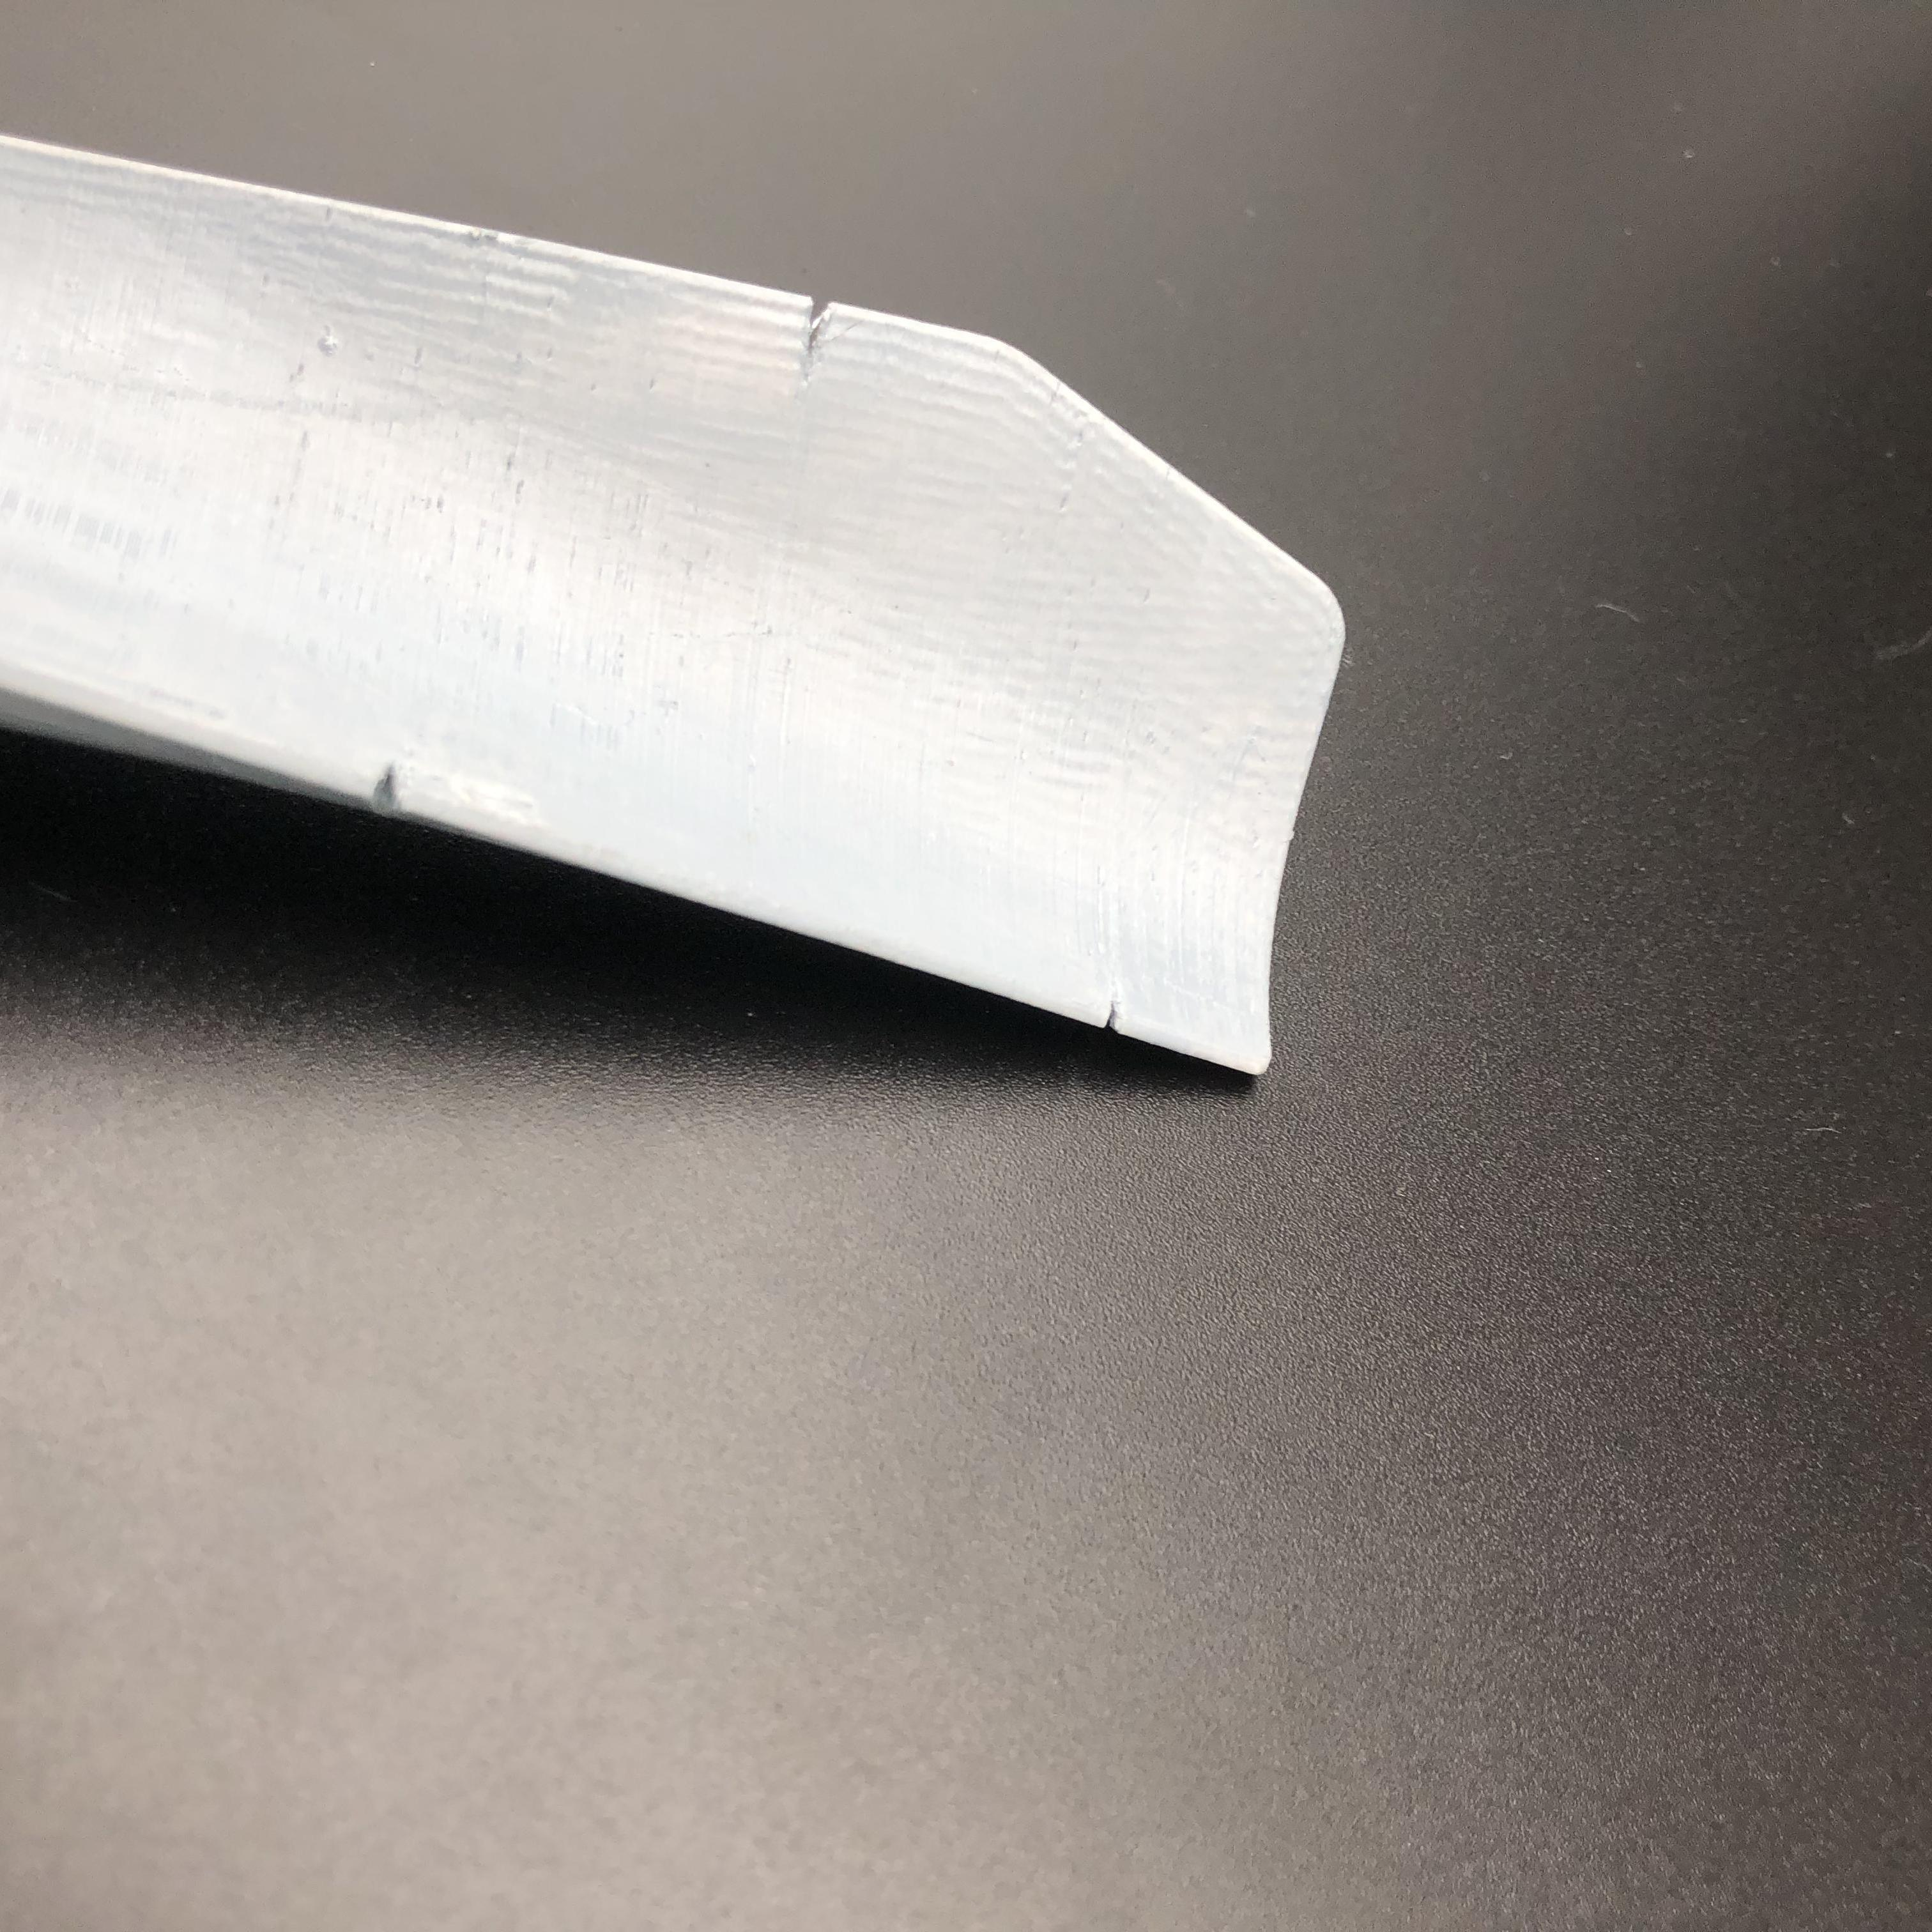groove: (793, 287, 846, 384), (366, 759, 414, 821), (1097, 998, 1131, 1033)
